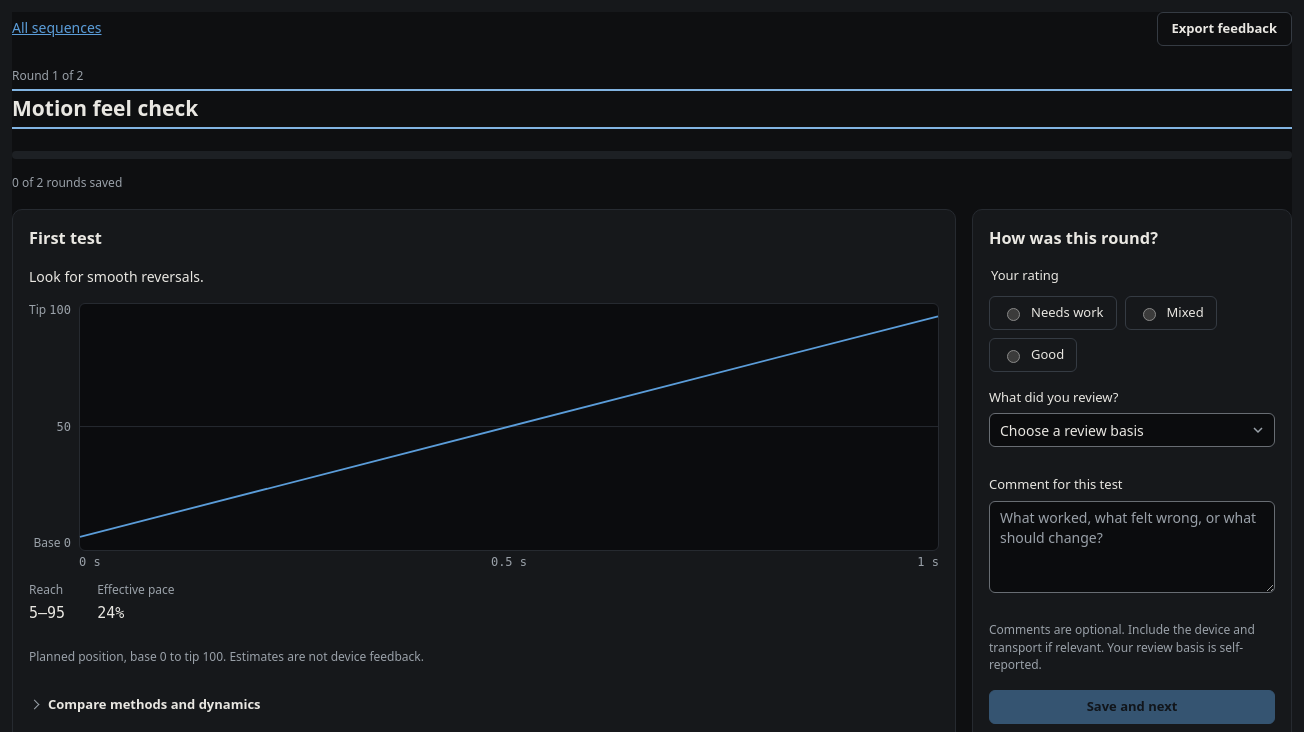
it: guided Lab test sequences › shows one round, requires a rating and basis, then saves the exact feedback without starting motion
The image size is (1304, 732).
Expected: the heading "First test" is shown, x1=29 y1=227 x2=102 y2=249
Expected: the heading "Second test" is not shown
Click the radio button labelled "Mixed" at (1149, 314), box x1=1142 y1=308 x2=1156 y2=321
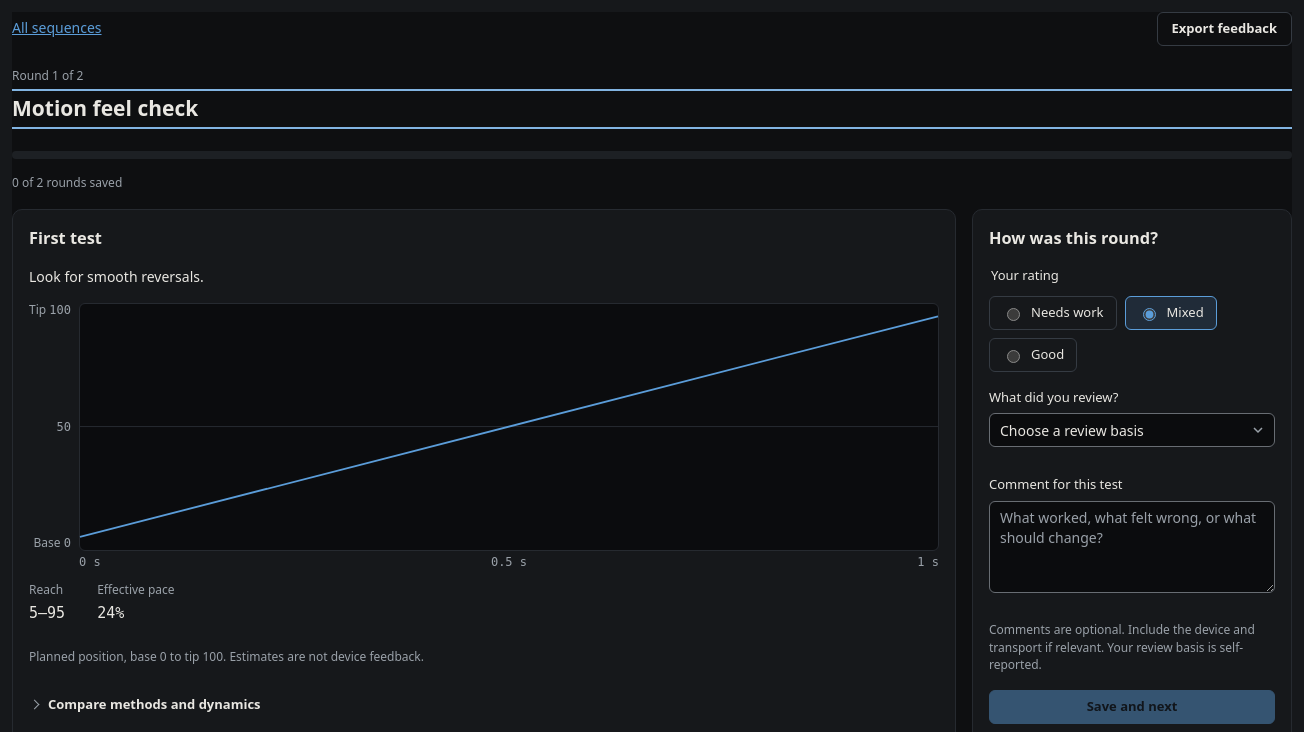
Select "Visual preview" in the dropdown labelled "What did you review?" at (1132, 430), box x1=989 y1=414 x2=1275 y2=448
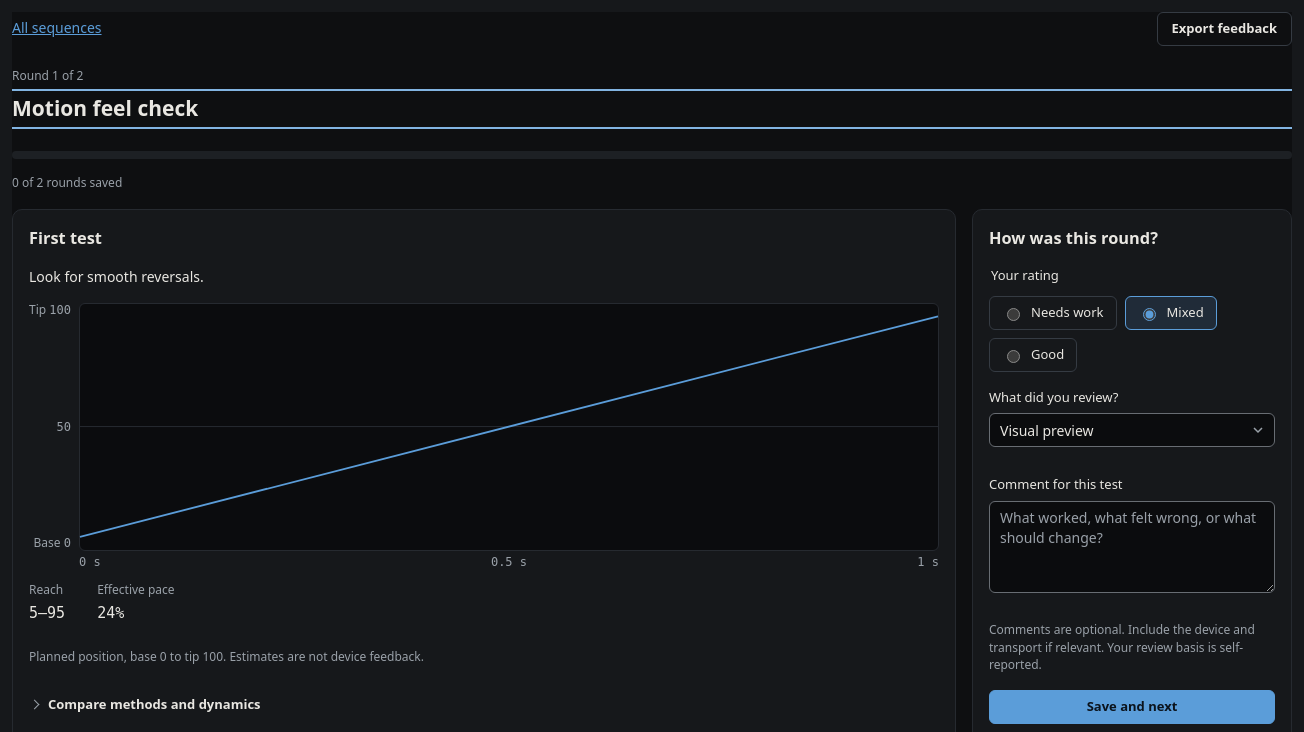
Type "The reversal looks abrupt." into the text box labelled "Comment for this test" at (1132, 547), box x1=989 y1=501 x2=1275 y2=593
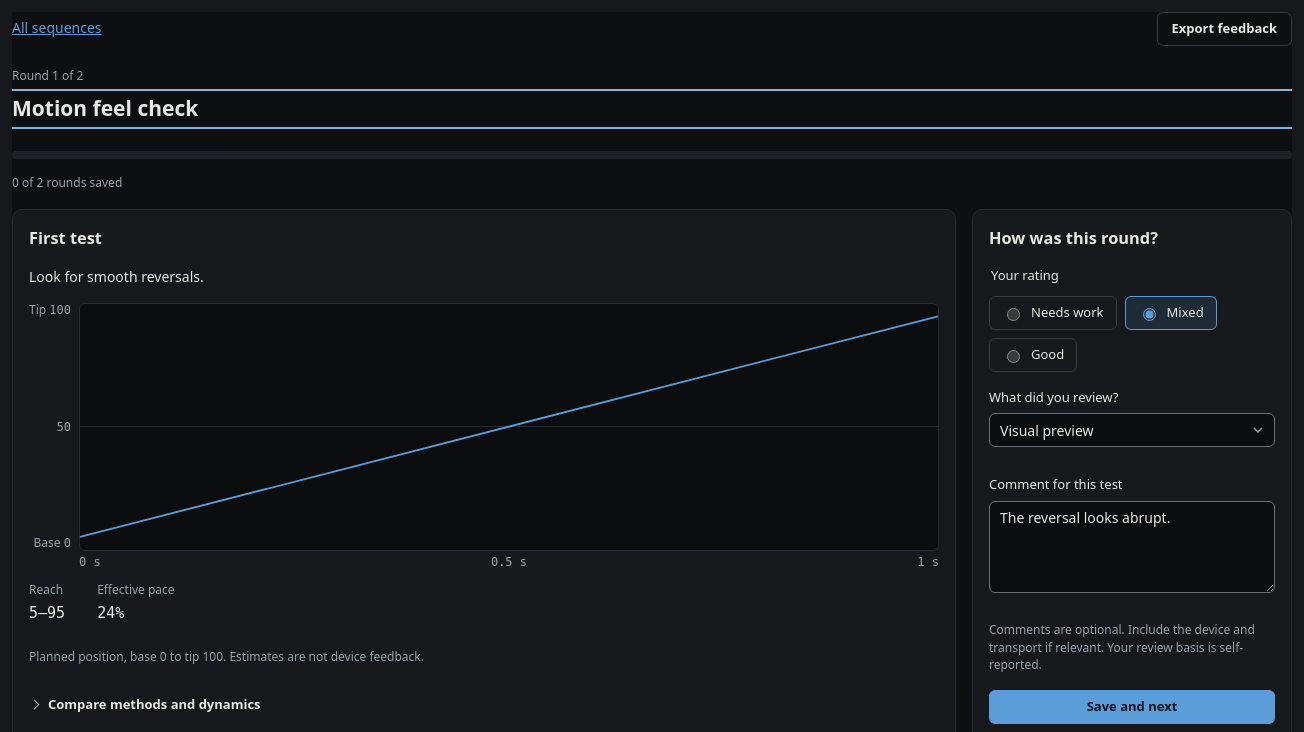
Click the button "Save and next" at (1132, 706), box x1=989 y1=690 x2=1275 y2=724
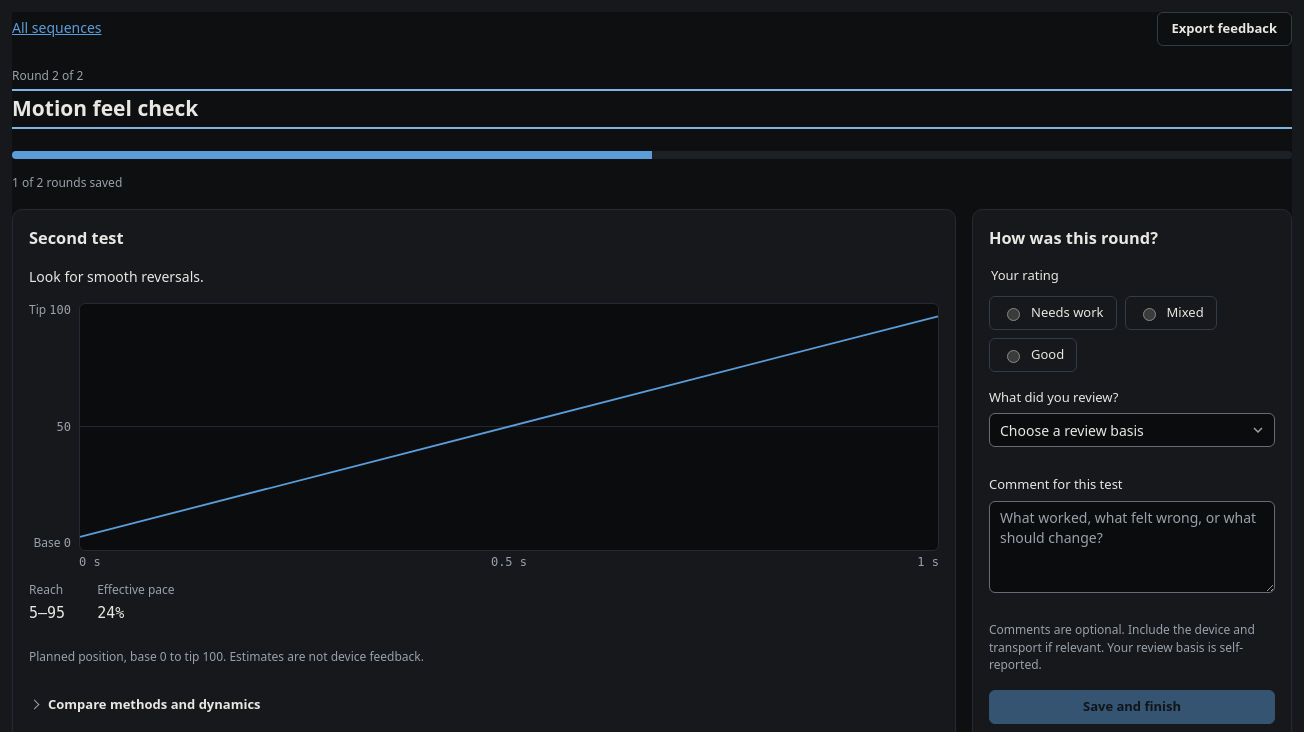
Result: the heading "Second test" is shown at x1=29 y1=227 x2=124 y2=249
Result: the text box labelled "Comment for this test" is empty at x1=989 y1=501 x2=1275 y2=593
